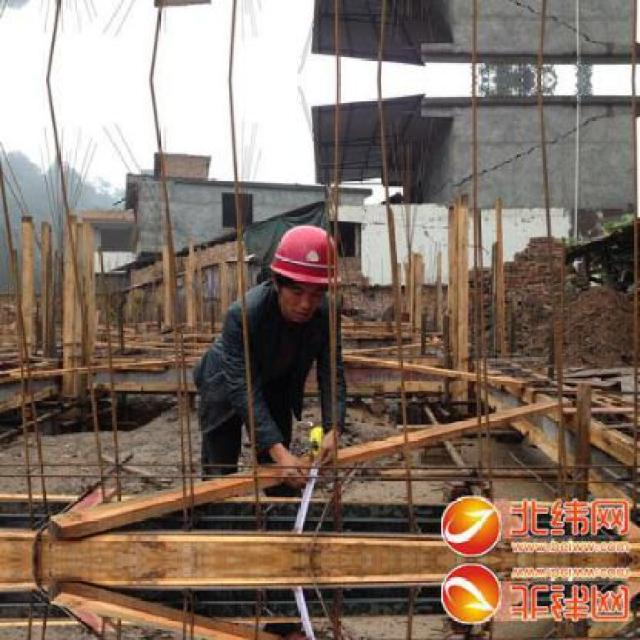helmet: (267, 212, 342, 326), (433, 484, 512, 558), (433, 562, 512, 636)
